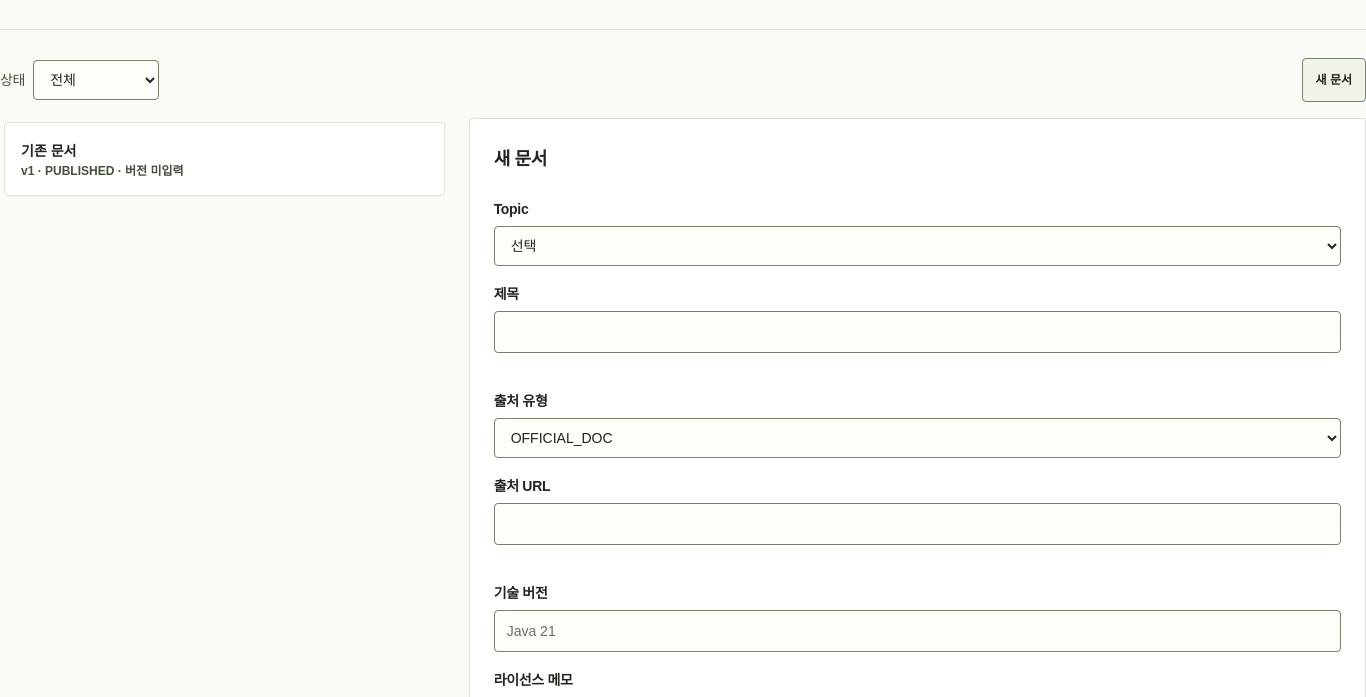
Test: 관리자 근거 문서 화면 › 문단 생성 성공 뒤 늦게 끝난 기존 조회 결과를 무시한다
Step 1. Click the button "기존 문서 v1 · PUBLISHED · 버전 미입력" → (49, 151), box [5,123,444,195]
(page scrolled)
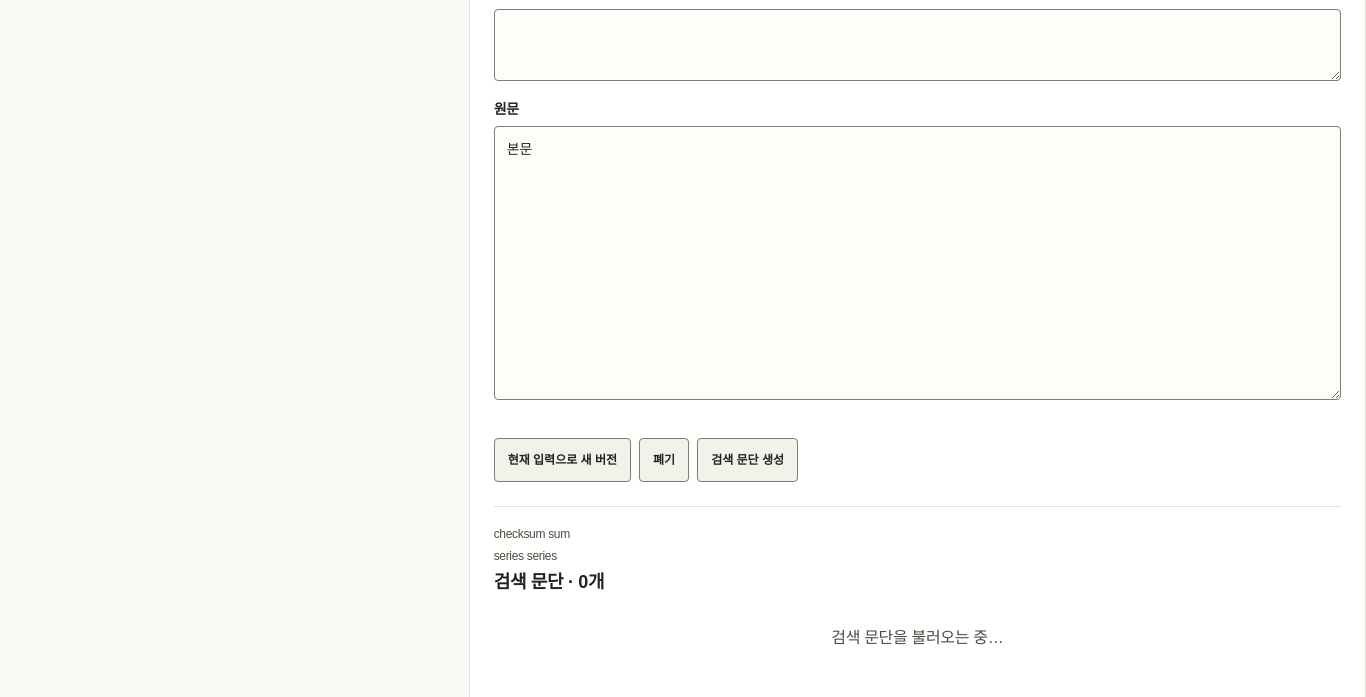
Step 2. Click the button "검색 문단 생성" → (748, 460), box [697,438,798,482]
(page scrolled)
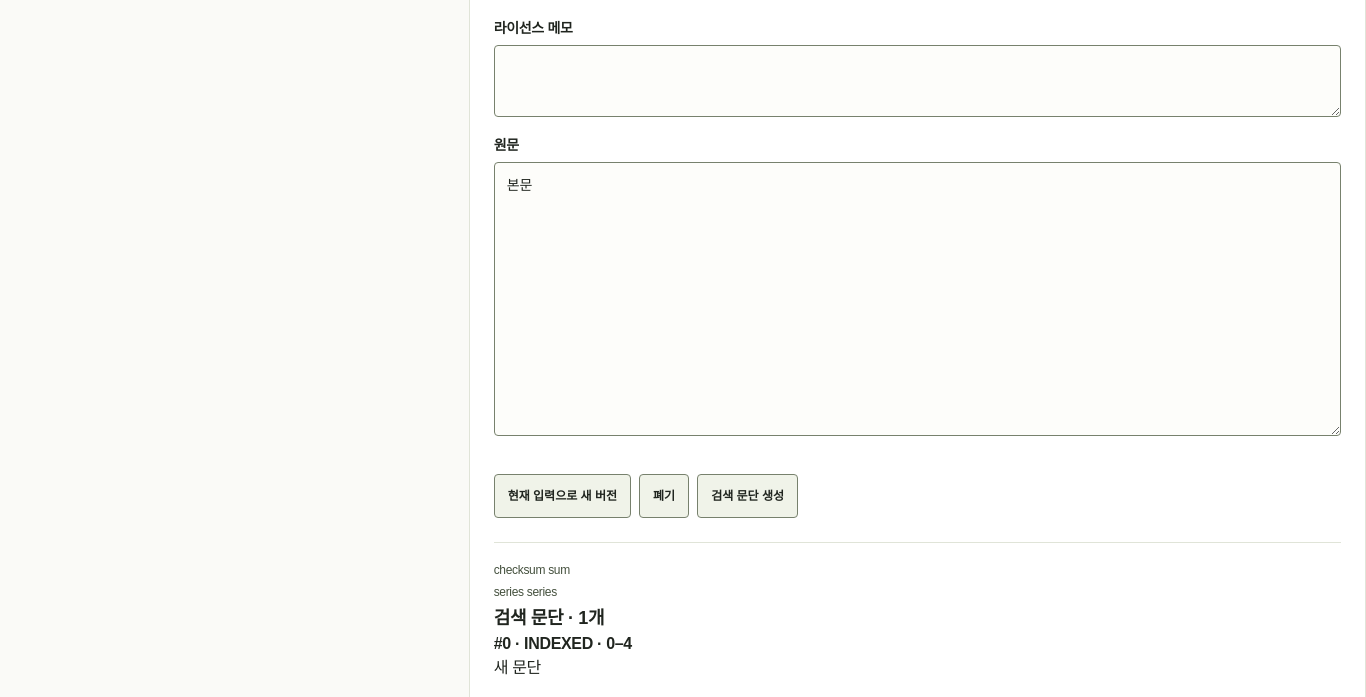
Expected: the text "새 문단" is shown, [494,659,541,676]
